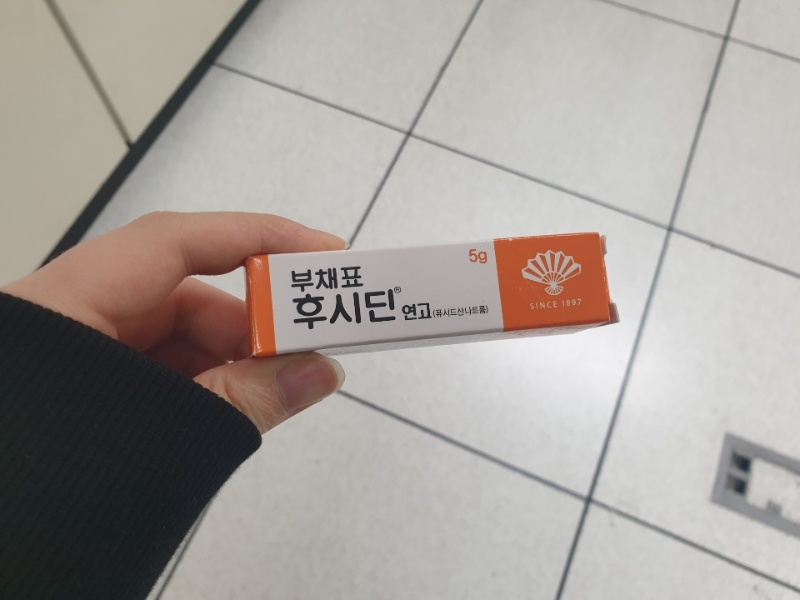fucidin: (246, 231, 612, 353)
